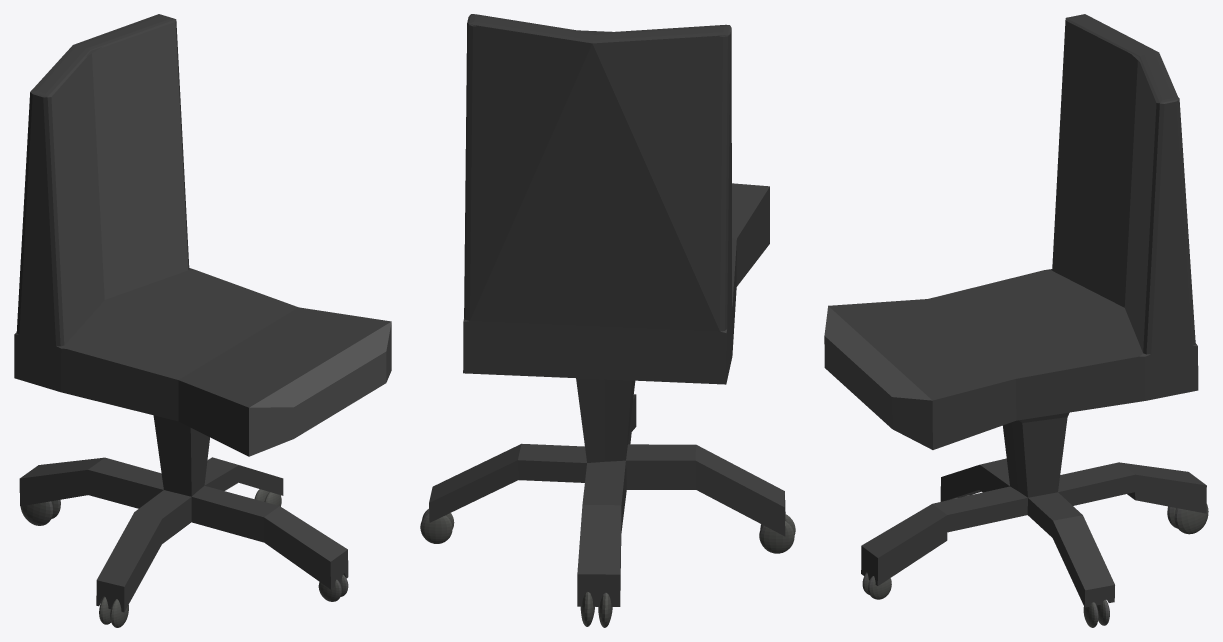
File: office-chair--1.gltf
3 views of the same model, side by side, from view 1: azimuth 30°, elevation 25°; view 2: azimuth 150°, elevation 25°; view 3: azimuth 270°, elevation 25° (orthographic). The views are drawn at different scales.
Visible parts, largest first — view 1: Seat2; view 2: Seat2; view 3: Seat2.
Boxes of the visible parts, x1,y1,x2,y2 form: Seat2: (14, 14, 391, 627); Seat2: (420, 14, 795, 627); Seat2: (824, 14, 1208, 627).
Bounding box in the file's own units: 0.5795 × 0.932 × 0.652.
1 material, 1 textured.
